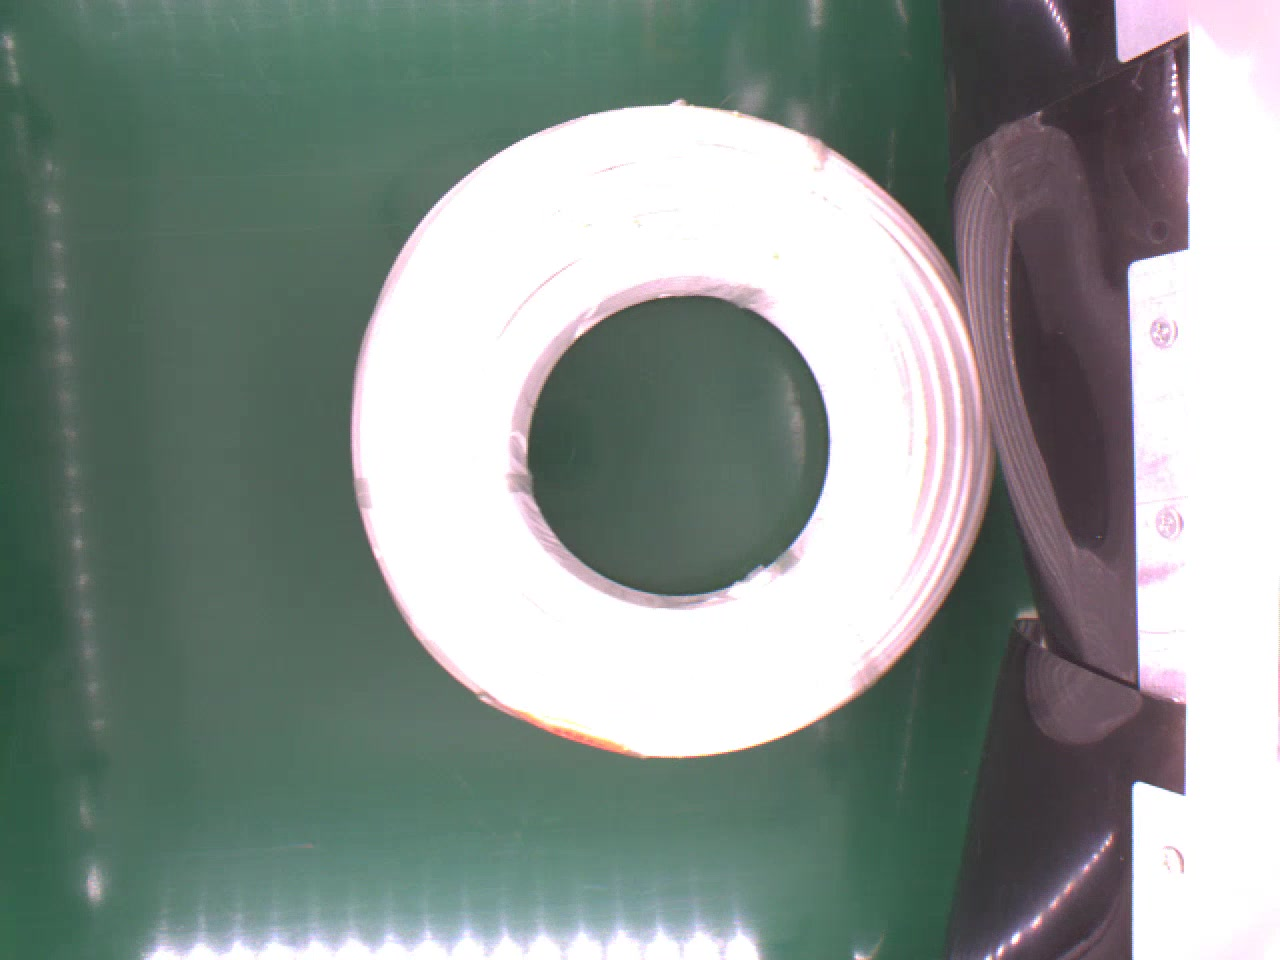white: (349, 96, 995, 765)
